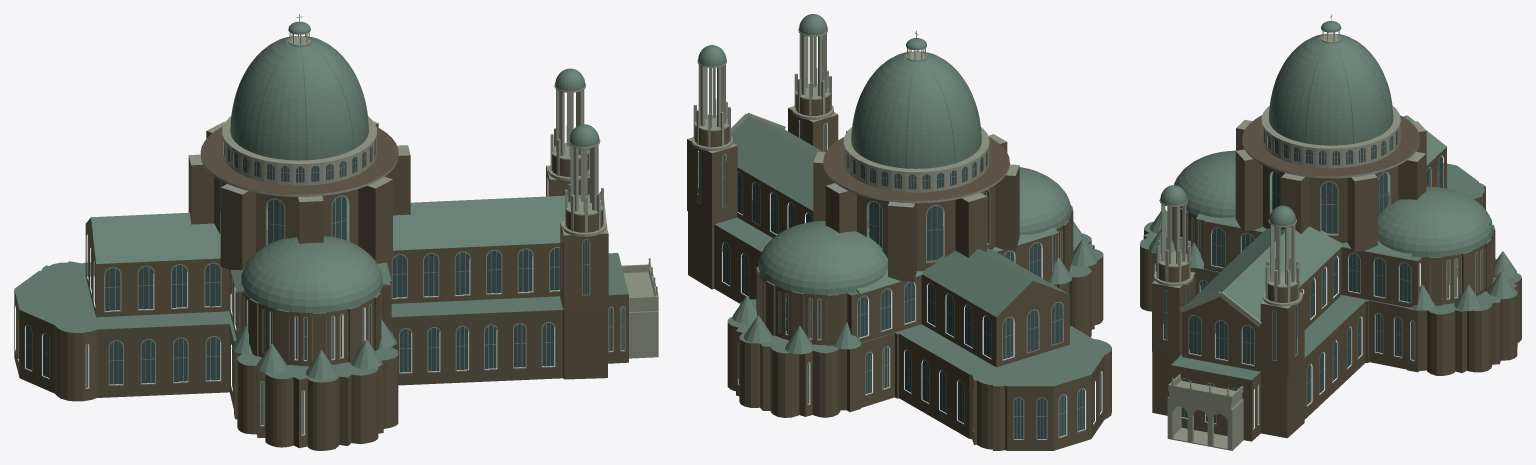
The model's file is koekelberg-basilica-near.glb.
The picture shows the model from 3 angles, left to right: view 1: azimuth 30°, elevation 25°; view 2: azimuth 150°, elevation 25°; view 3: azimuth 270°, elevation 25°; orthographic projection. The views are drawn at different scales.
Visible parts, largest first — view 1: koekelberg-basilica-0-brick, koekelberg-basilica-0-copper, koekelberg-basilica-0-stone, koekelberg-basilica-0-glass; view 2: koekelberg-basilica-0-brick, koekelberg-basilica-0-copper, koekelberg-basilica-0-stone, koekelberg-basilica-0-glass, koekelberg-basilica-0-seam; view 3: koekelberg-basilica-0-brick, koekelberg-basilica-0-copper, koekelberg-basilica-0-stone, koekelberg-basilica-0-glass, koekelberg-basilica-0-seam.
Boxes of the visible parts, box(x1,y1,x2,y2) form: koekelberg-basilica-0-brick: box(14, 123, 628, 450); koekelberg-basilica-0-copper: box(14, 21, 628, 382); koekelberg-basilica-0-stone: box(15, 14, 658, 436); koekelberg-basilica-0-glass: box(25, 141, 624, 434); koekelberg-basilica-0-brick: box(687, 95, 1111, 450); koekelberg-basilica-0-copper: box(698, 14, 1111, 386); koekelberg-basilica-0-stone: box(687, 28, 1102, 439); koekelberg-basilica-0-glass: box(698, 120, 1101, 438); koekelberg-basilica-0-seam: box(863, 59, 980, 168); koekelberg-basilica-0-brick: box(1140, 115, 1521, 441); koekelberg-basilica-0-copper: box(1140, 21, 1521, 379); koekelberg-basilica-0-stone: box(1152, 14, 1500, 450); koekelberg-basilica-0-glass: box(1155, 130, 1481, 427); koekelberg-basilica-0-seam: box(1273, 34, 1388, 143).
Size of the model in its own units: 145 by 89.9 by 101.
